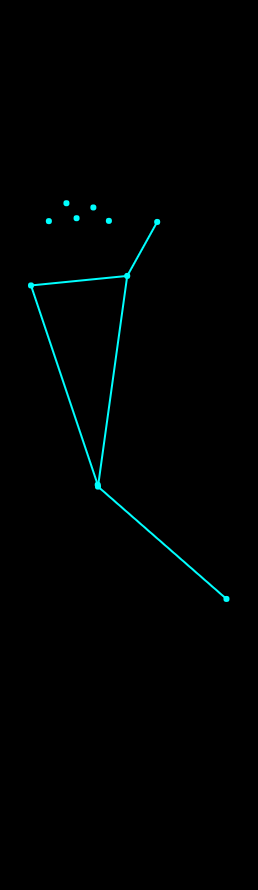tree: (1, 181, 245, 626)
